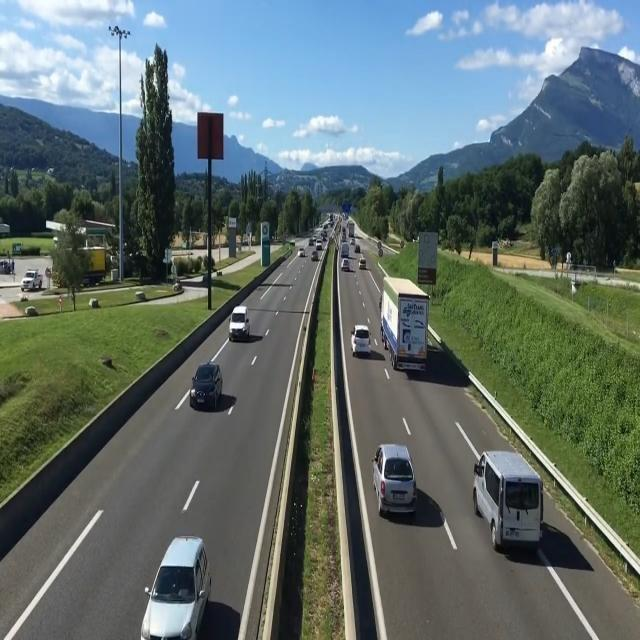Car: (140, 533, 212, 640), (371, 443, 419, 517), (188, 364, 226, 410), (350, 323, 371, 356), (0, 261, 15, 275), (340, 258, 350, 271), (359, 259, 367, 270), (298, 247, 306, 257), (310, 251, 318, 261)
Truck: (379, 274, 432, 374), (346, 220, 356, 238)
Van: (472, 451, 545, 554), (227, 306, 250, 343), (21, 269, 43, 293), (340, 242, 350, 257), (315, 238, 323, 250)
